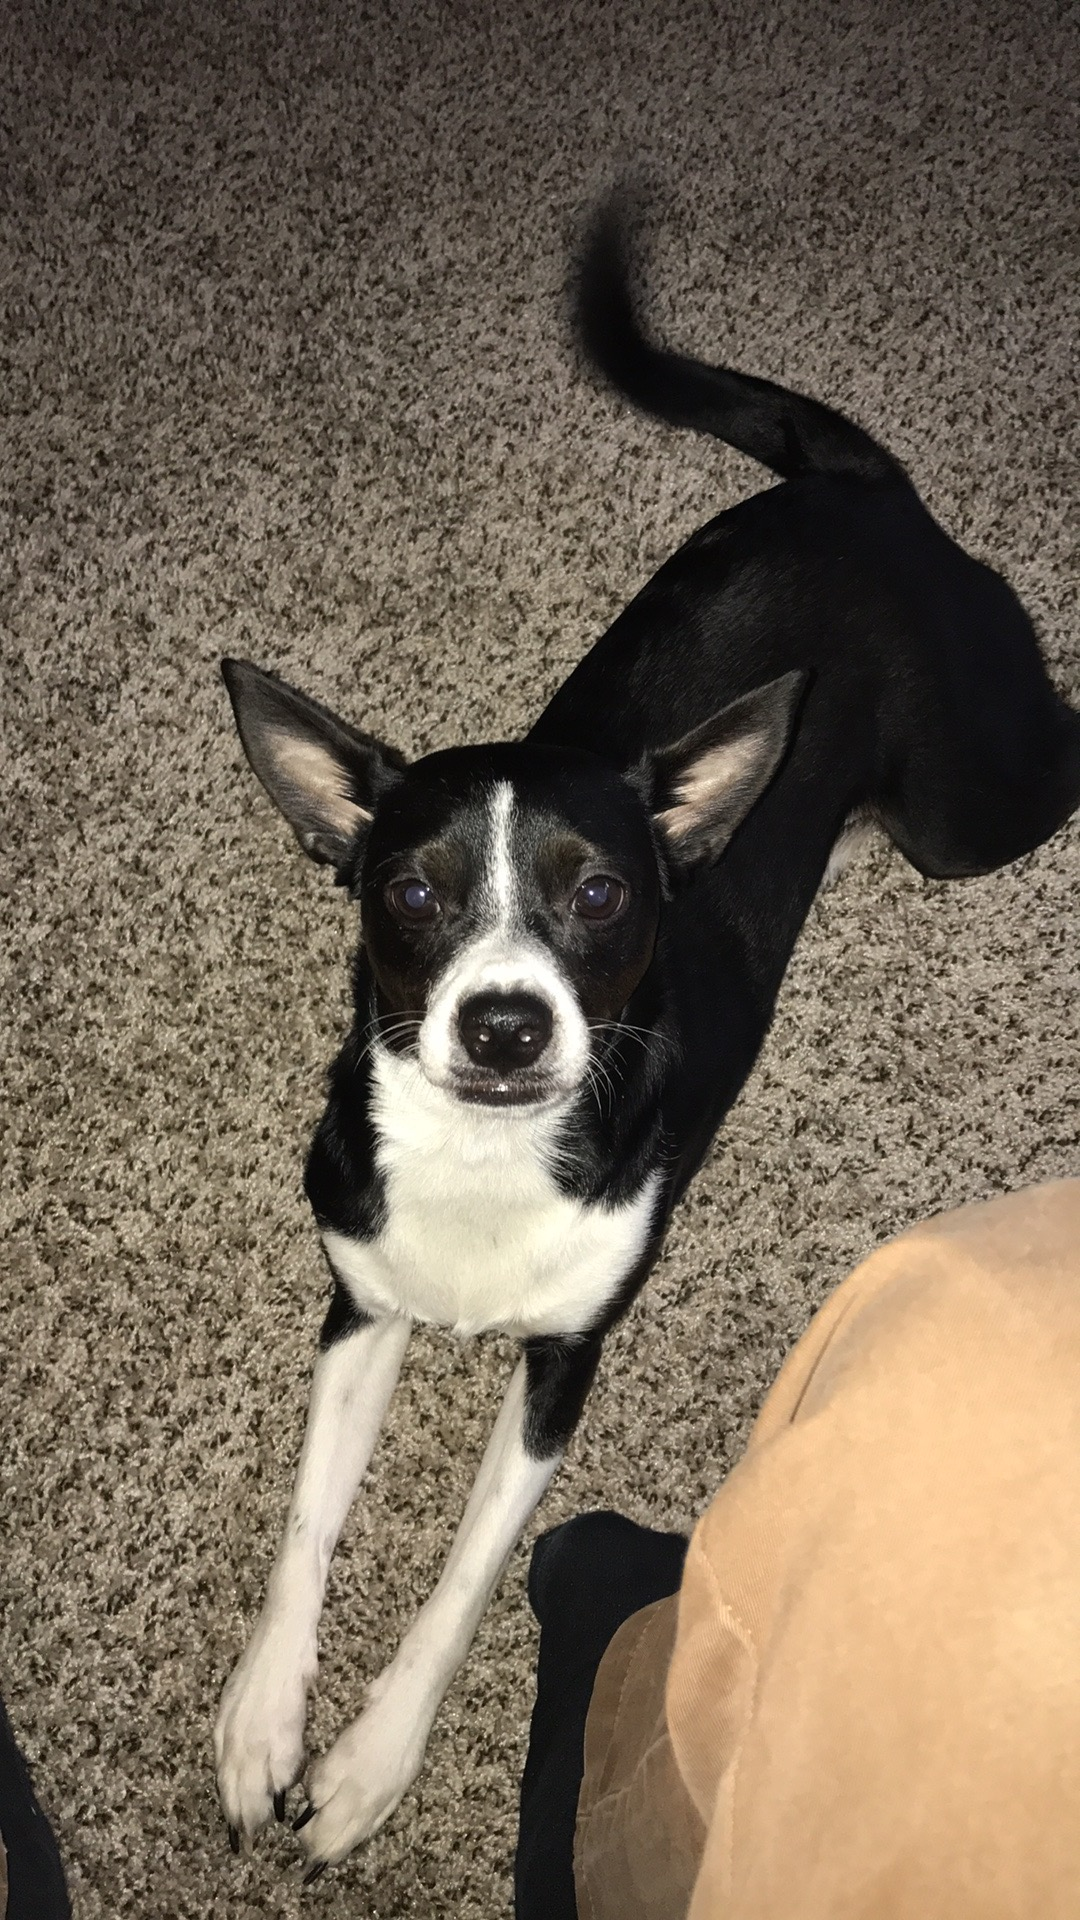Harley: (174, 179, 1080, 1859)
